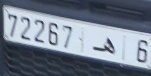2: (19, 16, 34, 41), (33, 19, 47, 41)
6: (136, 36, 149, 63), (48, 22, 59, 46)
7: (60, 24, 73, 48), (6, 12, 17, 37)
h: (92, 35, 117, 55)
